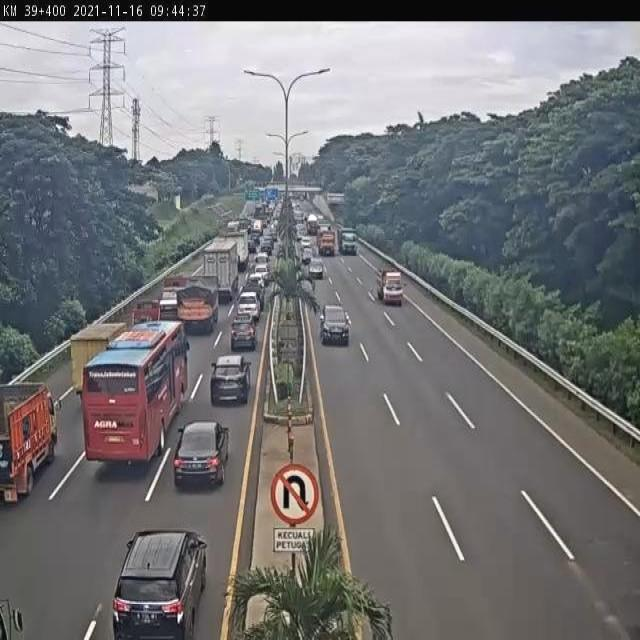Bus: (80, 314, 192, 468)
Car: (112, 529, 206, 639), (172, 420, 230, 490), (210, 353, 252, 404), (318, 304, 351, 346), (230, 317, 258, 351), (237, 292, 260, 324), (247, 271, 267, 295), (254, 263, 271, 282), (308, 260, 324, 280), (260, 236, 273, 254), (302, 248, 314, 265), (301, 236, 312, 252), (246, 238, 257, 254), (250, 230, 259, 243)
Truck: (0, 376, 61, 504), (69, 318, 130, 398), (176, 271, 222, 336), (200, 239, 239, 302), (157, 274, 188, 316), (225, 231, 251, 270), (376, 264, 402, 301), (130, 298, 163, 326), (318, 230, 336, 256), (340, 228, 357, 255), (306, 213, 319, 234), (254, 202, 269, 220), (252, 218, 263, 235), (267, 201, 276, 218)
